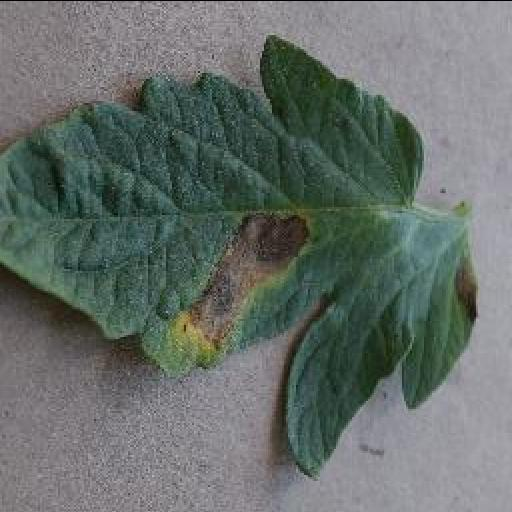disease_tomato: (0, 34, 480, 480)
